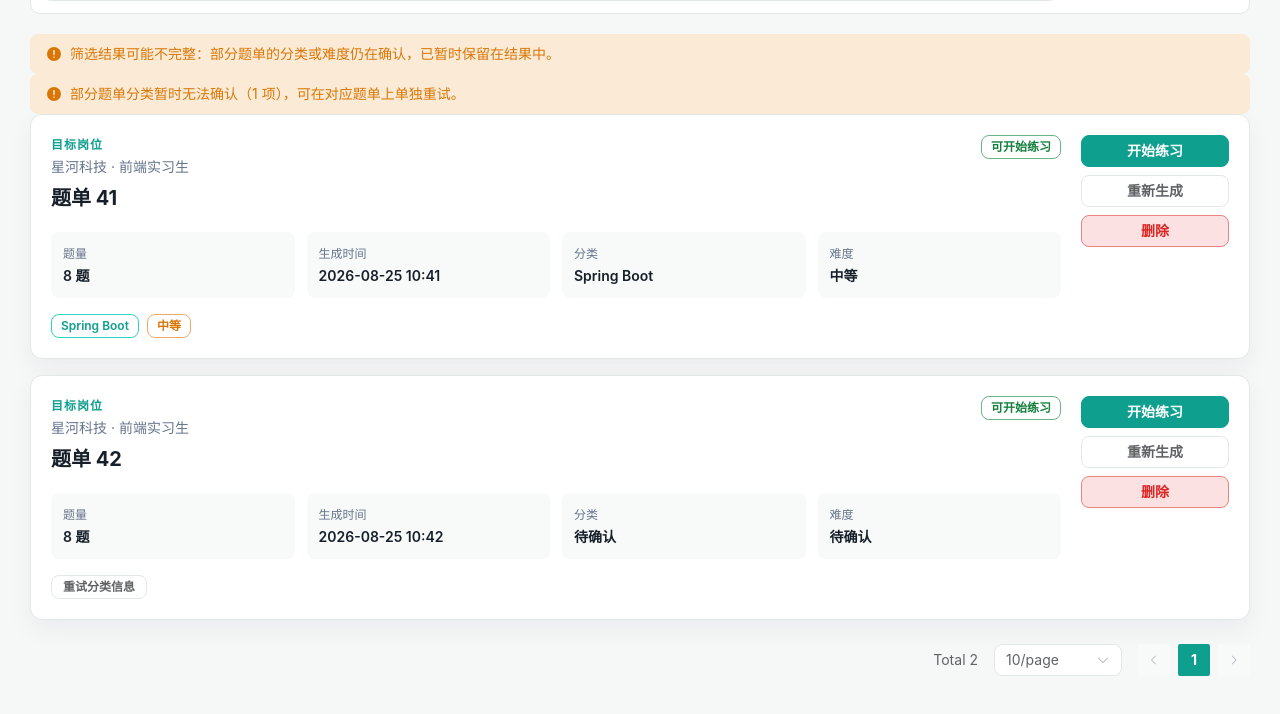
Scenario: interview preparation queue redesign › keeps unavailable metadata visible under active filters and retries it independently
(page scrolled)
expect the element showing "筛选结果可能不完整：部分题单的分类或难度仍在确认，已暂时保留在结果中。" is shown: met, box [30, 34, 1250, 74]
expect the element that starts with "目标岗位" shows "待确认": met, box [574, 528, 616, 545]
Click the button "重试分类信息" at (99, 587), box [51, 575, 147, 599]
(page scrolled)
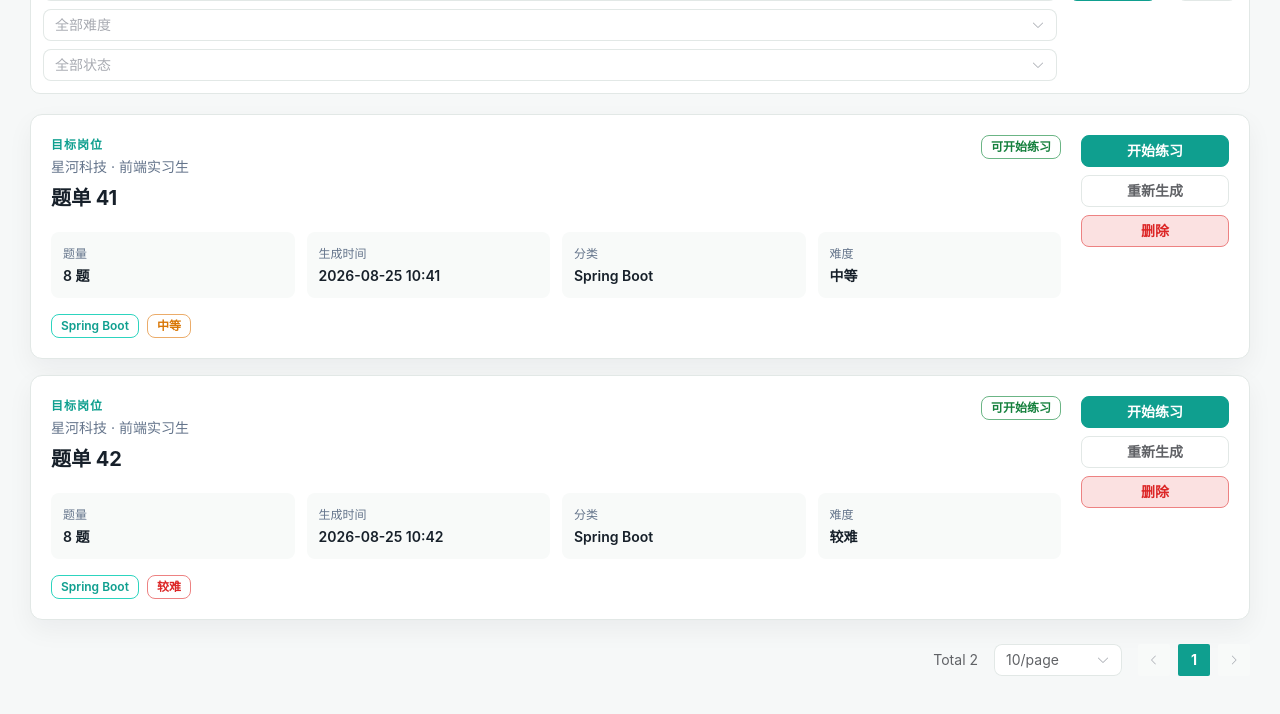
expect the element that starts with "目标岗位" shows "较难": met, box [830, 528, 858, 545]
